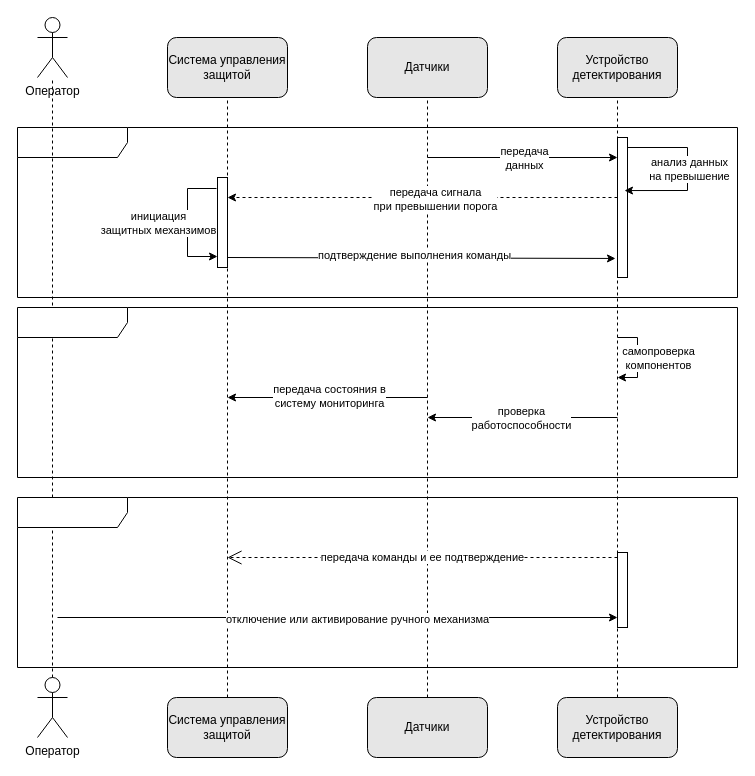
Some shapes in this 755 by 776 pixel diagram are drawn without their labels. Each missing label, with the centre of its shape:
"Основной рабочий процесс" goes at [377,212].
"Ручное управление" goes at [377,582].
"Самодиагностика и статус" goes at [377,392].
